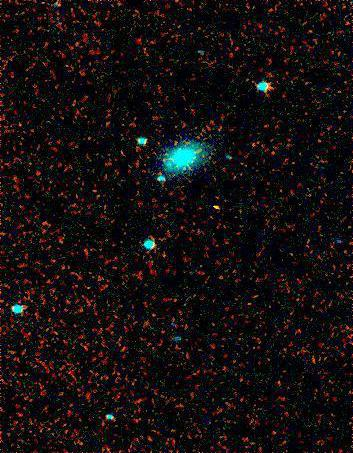star: (193, 201, 223, 231)
